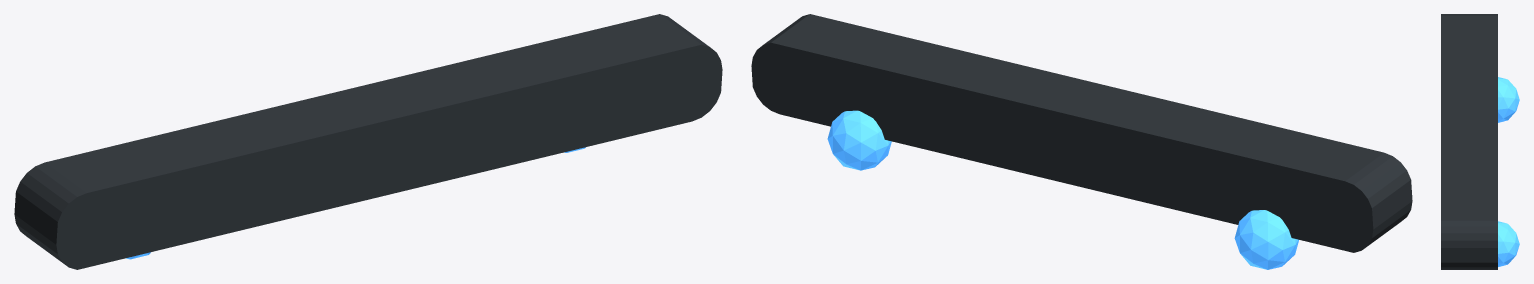
The model's file is MEETING_CAMERA_BAR_001.glb.
The picture shows the model from 3 angles, left to right: view 1: azimuth 30°, elevation 25°; view 2: azimuth 150°, elevation 25°; view 3: azimuth 270°, elevation 25°; orthographic projection. The views are drawn at different scales.
Visible parts, largest first — view 1: camera_bar_000; view 2: camera_bar_000, lens_001, lens_002; view 3: camera_bar_000, lens_001, lens_002.
Part boxes in pixels (bbox=[...]): camera_bar_000: bbox=[14, 14, 722, 269]; camera_bar_000: bbox=[751, 14, 1412, 252]; lens_001: bbox=[1234, 210, 1298, 269]; lens_002: bbox=[827, 110, 891, 170]; camera_bar_000: bbox=[1441, 14, 1497, 269]; lens_001: bbox=[1498, 77, 1519, 122]; lens_002: bbox=[1498, 221, 1519, 266].
Size of the model in its own units: 0.55 by 0.09 by 0.083.
